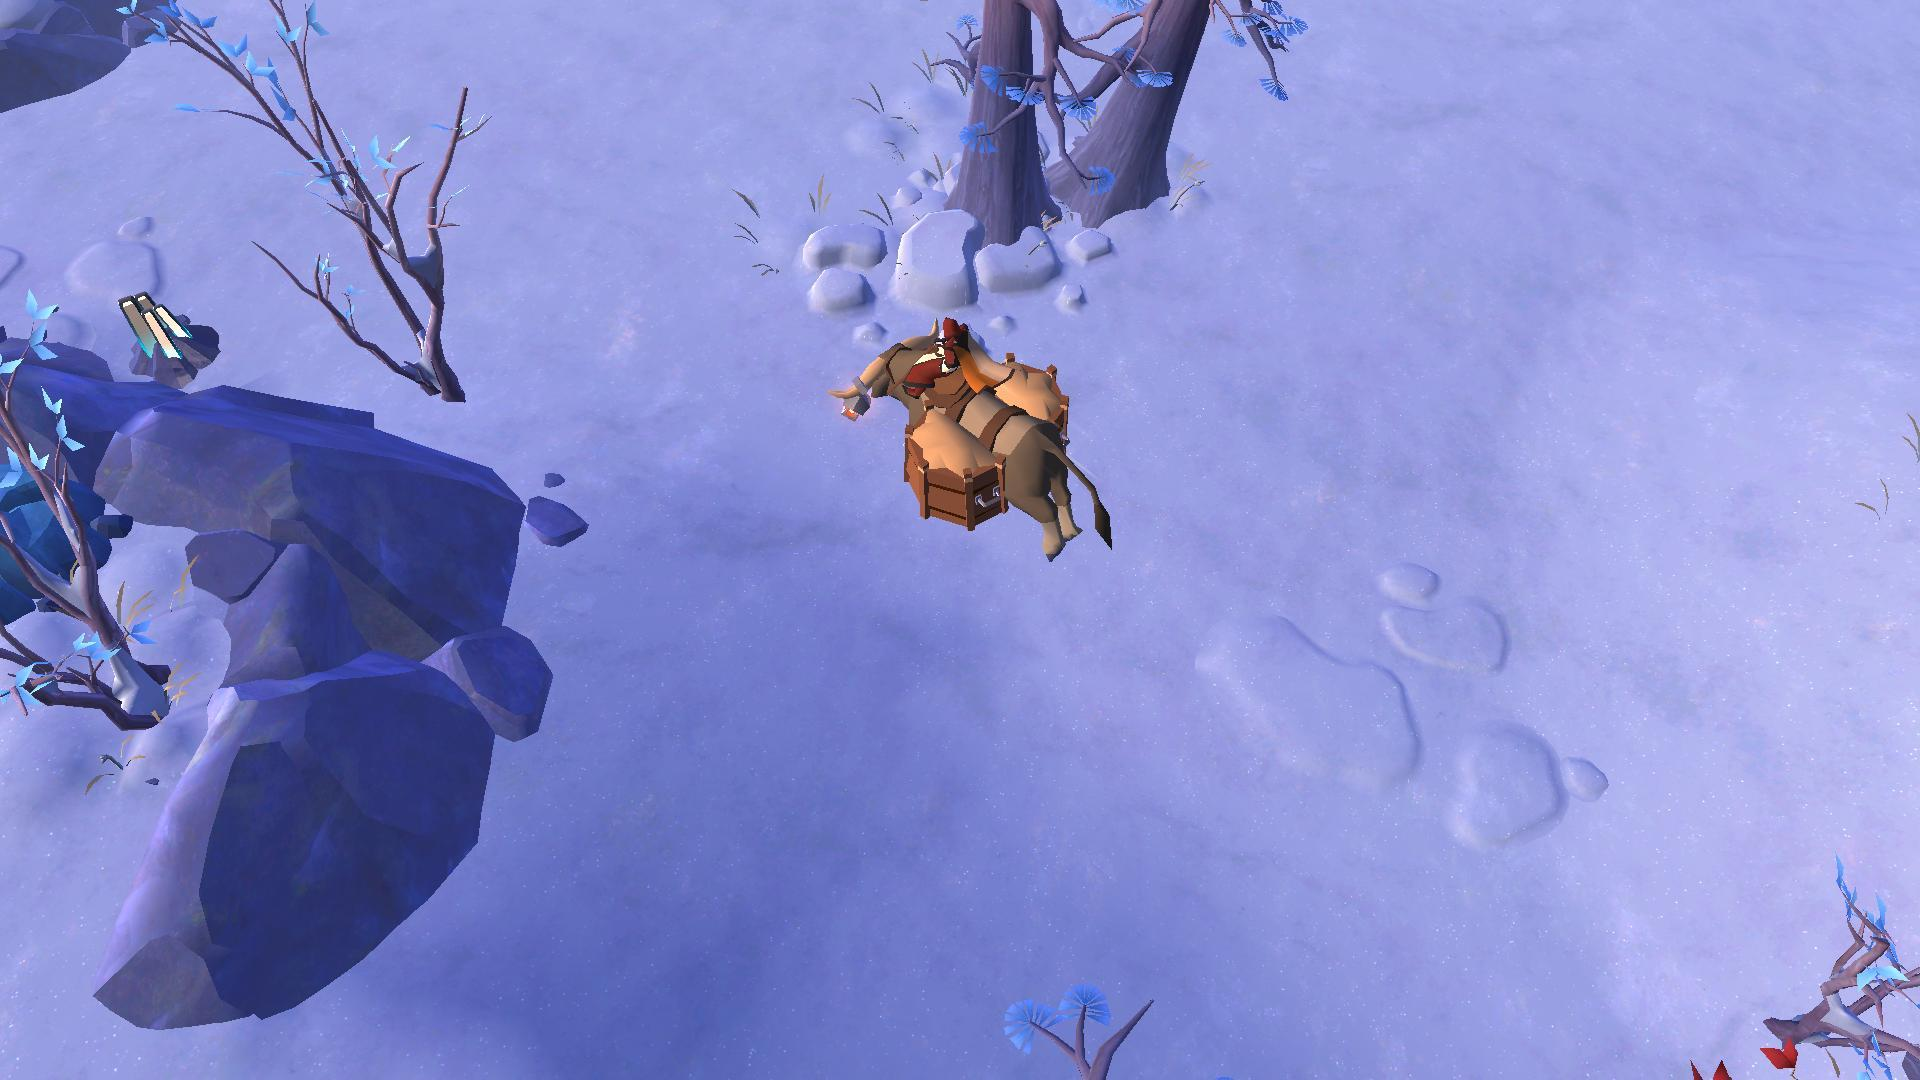ore_t4: (112, 286, 198, 363)
